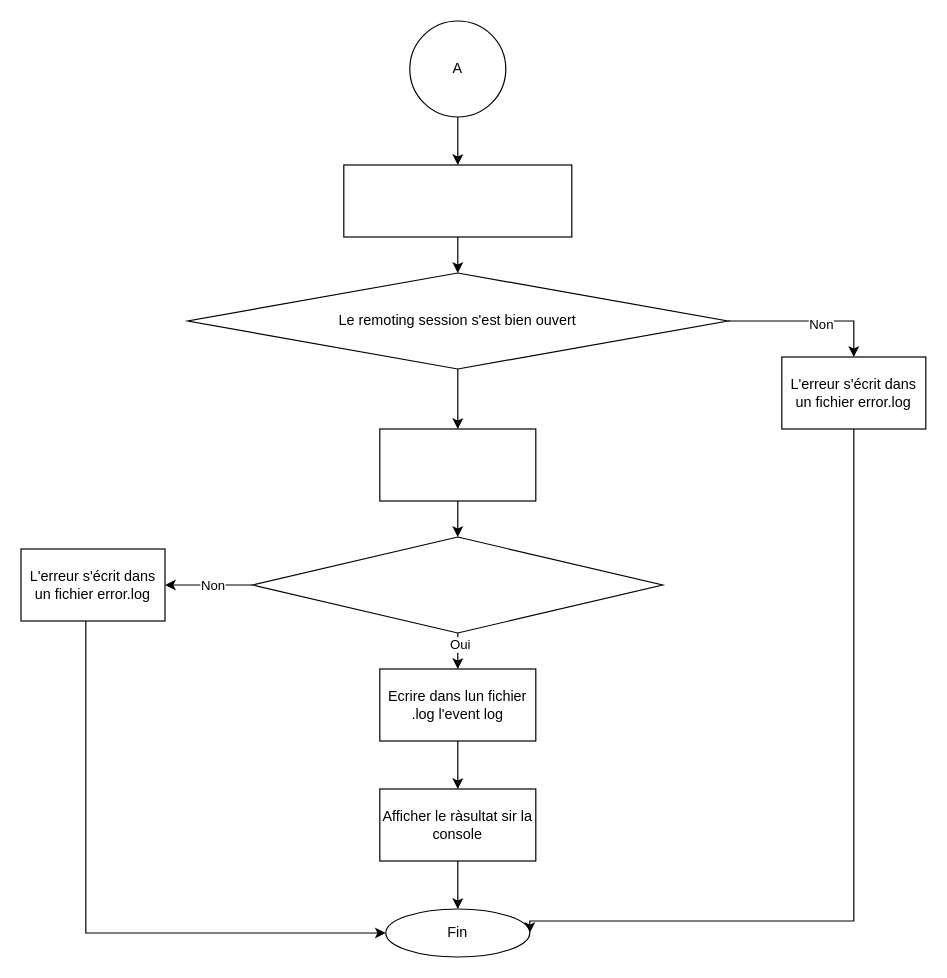
This 947x978 diagram has some shape labels left out. The centre of each missing label's shape, as x and y in pixels:
Essayer d'afficher l'event log du type choisi,: (x=457, y=464)
essayer d'ouvrir le remoting session: (x=457, y=200)
L'event log du type choisi s'est bien affiché: (x=457, y=584)
